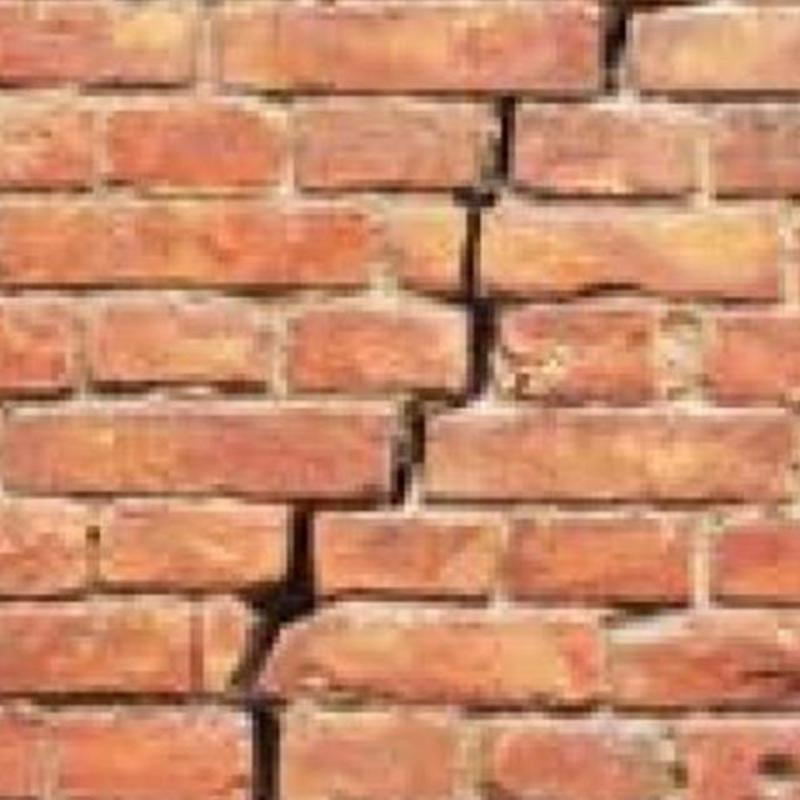pothole: (392, 189, 497, 503), (233, 503, 314, 691), (252, 702, 280, 799), (603, 0, 631, 94), (497, 97, 516, 180)
